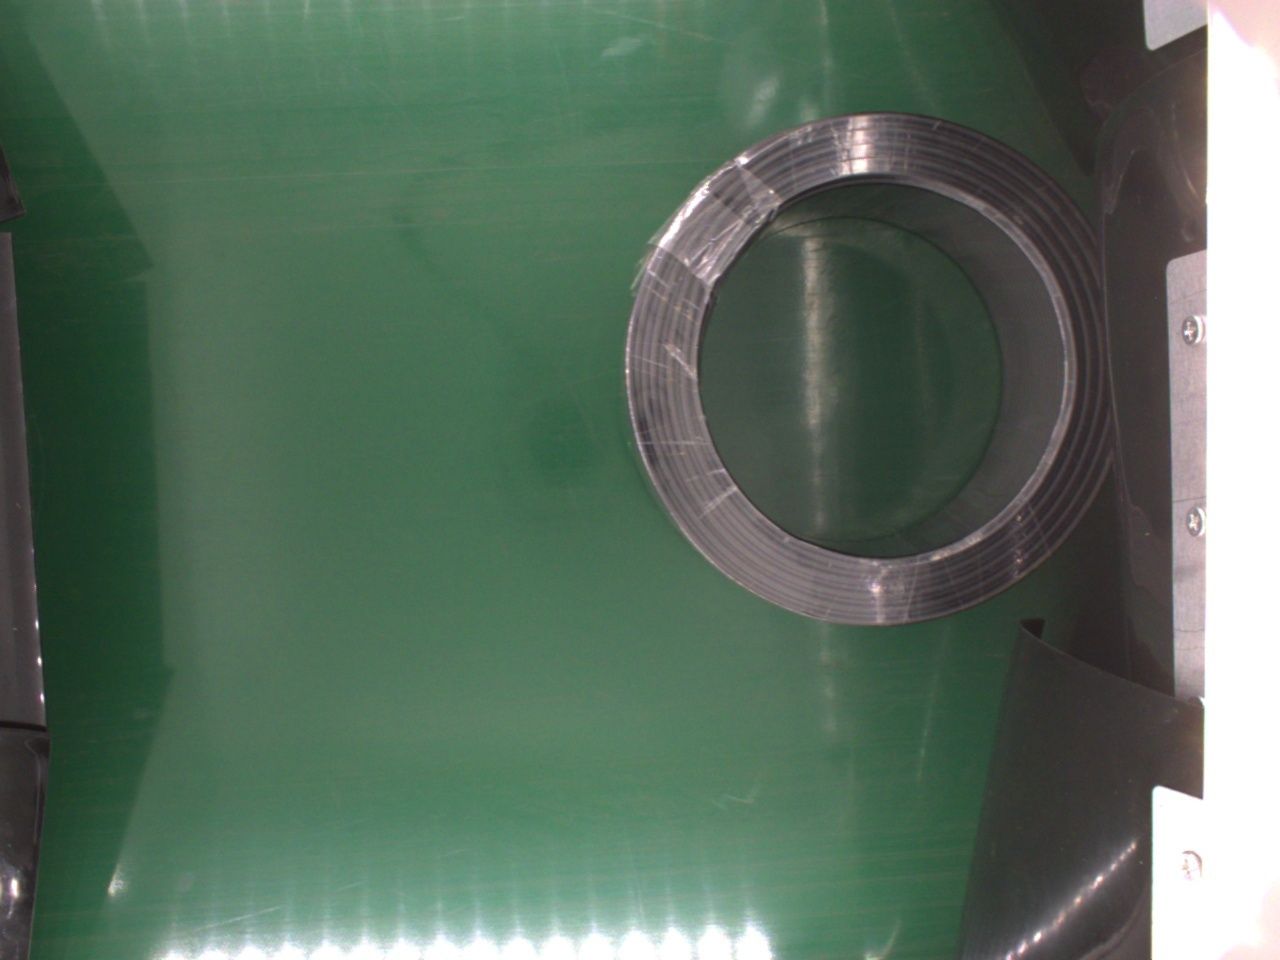black: (625, 110, 1116, 625)
